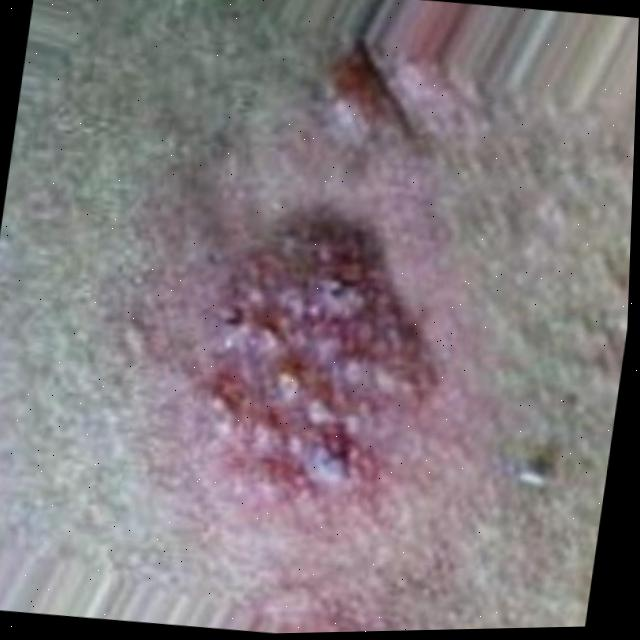Shingles: (203, 227, 434, 494)
